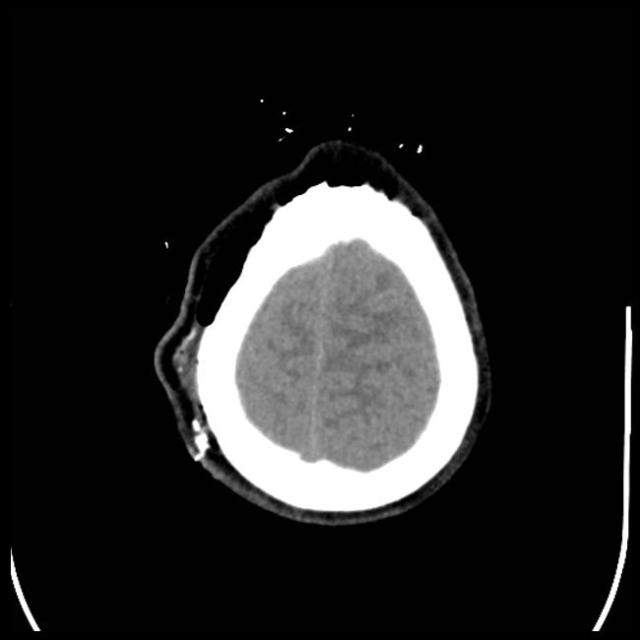lesion: (149, 132, 499, 531)
